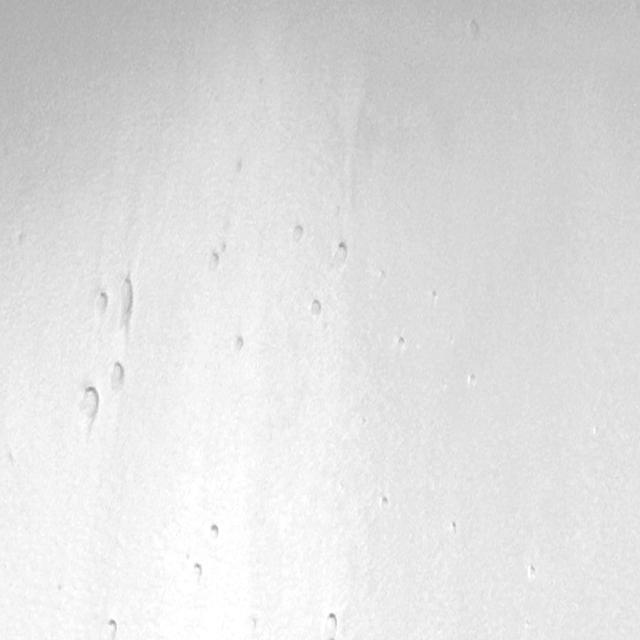pin holes: (73, 381, 104, 444), (117, 282, 138, 324), (105, 360, 127, 394), (318, 610, 341, 640), (90, 288, 108, 320), (187, 562, 207, 587), (464, 17, 484, 42), (332, 239, 351, 265), (288, 221, 307, 245), (230, 332, 248, 357), (102, 618, 122, 640), (308, 297, 324, 322), (205, 522, 224, 543), (207, 251, 223, 274), (524, 564, 540, 583), (246, 615, 262, 633), (374, 494, 388, 512), (427, 289, 440, 308), (465, 372, 478, 390), (445, 518, 458, 536), (374, 267, 387, 284), (393, 334, 407, 349)
